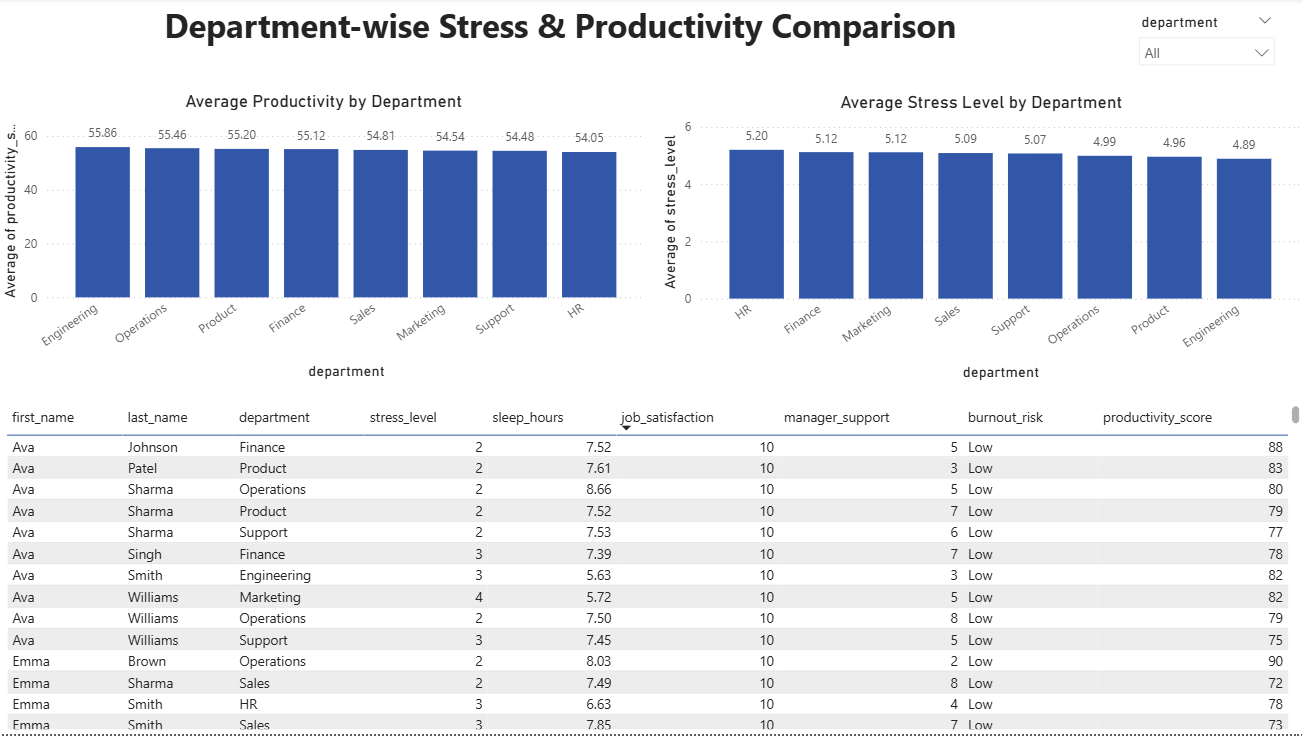

Layout of this report page (visuals, bound fields, positions):
{"tool":"powerbi","page":{"name":"Department Comparison","canvas":[1280,720],"ordinal":4},"visuals":[{"type":"textbox","box":[9.8,0,1082.2,58.7],"z":0},{"type":"clusteredColumnChart","title":"Average Productivity by Department","fields":{"Category":["Employee Wellness.department"],"Y":["Employee Wellness.productivity_score"]},"box":[0,90.5,639.5,287.4],"z":1000},{"type":"clusteredColumnChart","title":"Average Stress Level by Department","fields":{"Category":["Employee Wellness.department"],"Y":["Employee Wellness.stress_level"]},"box":[645.7,91.7,634.7,287.4],"z":2000},{"type":"tableEx","fields":{"Values":["Employee Wellness.first_name","Employee Wellness.last_name","Employee Wellness.department","Employee Wellness.stress_level","Employee Wellness.sleep_hours","Employee Wellness.job_satisfaction","Employee Wellness.manager_support","Employee Wellness.burnout_risk","Employee Wellness.productivity_score"]},"box":[3.7,393.8,1276.6,326.5],"z":3000},{"type":"slicer","fields":{"Values":["Employee Wellness.department"]},"box":[1106.7,9.8,152.9,81.9],"z":4000}]}

Visuals, with their boxes in screenshot pixels (x1, y1, x2, y2), scaled from the page's 1280x720 canvas onto the 1302x737 screenshot:
textbox: (10,0,1111,60)
"Average Productivity by Department" clusteredColumnChart: (0,93,650,387)
"Average Stress Level by Department" clusteredColumnChart: (657,94,1301,388)
tableEx - Employee Wellness.first_name x Employee Wellness.last_name: (4,403,1301,736)
slicer - Employee Wellness.department: (1126,10,1281,94)
